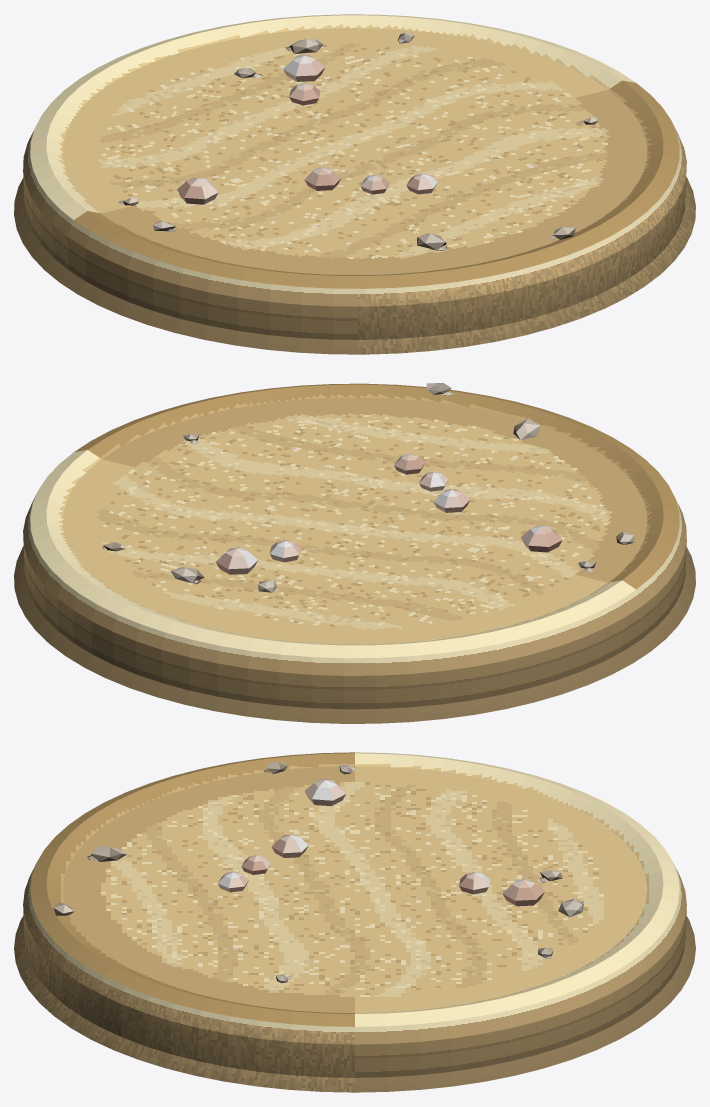
Rendered from platform_sand.glb.
3 renders of one model, top to bottom at view 1: azimuth 30°, elevation 25°; view 2: azimuth 150°, elevation 25°; view 3: azimuth 270°, elevation 25°, orthographic.
Parts seen in each view (by area): view 1: platform_sand, plat_sand; view 2: platform_sand, plat_sand; view 3: platform_sand, plat_sand.
Boxes of the visible parts, bbox=[...] form: platform_sand: bbox=[14, 14, 695, 354]; plat_sand: bbox=[118, 32, 597, 251]; platform_sand: bbox=[14, 383, 695, 723]; plat_sand: bbox=[102, 383, 634, 592]; platform_sand: bbox=[14, 752, 695, 1092]; plat_sand: bbox=[53, 762, 583, 983].
Bounding box in the file's own units: 2.1 × 0.2879 × 2.1.
Materials: 3 (2 with a texture image).
